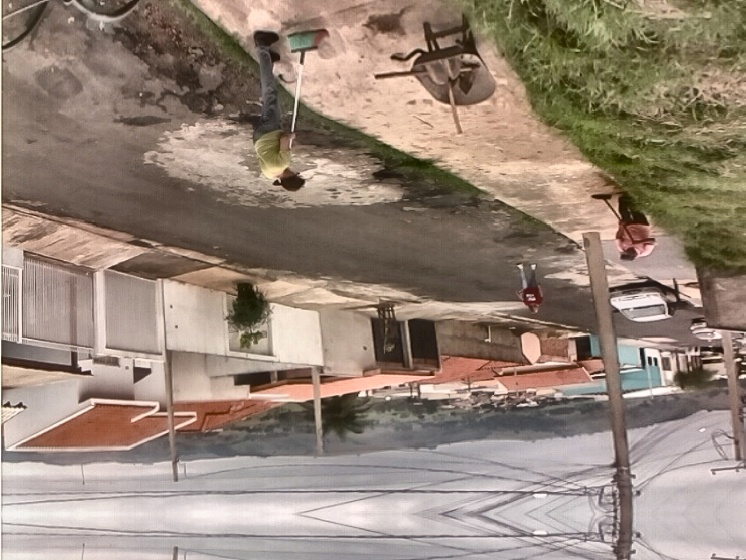person: (249, 30, 306, 193), (613, 193, 657, 262), (516, 263, 542, 313)
